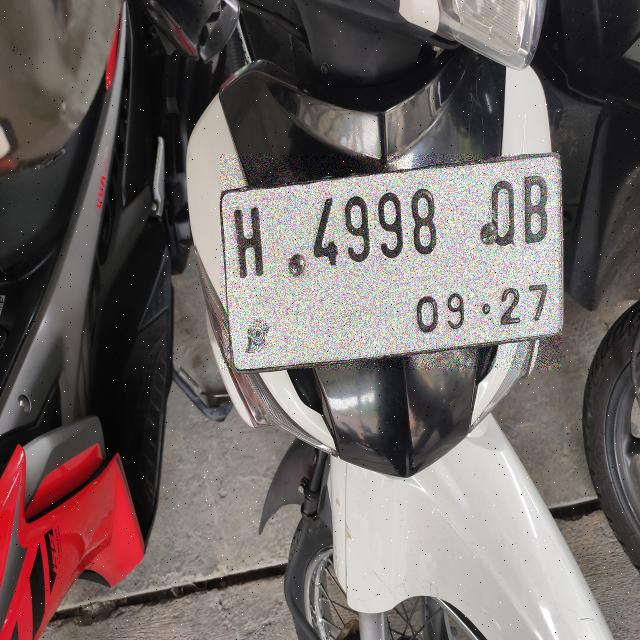plate: (221, 154, 561, 369)
